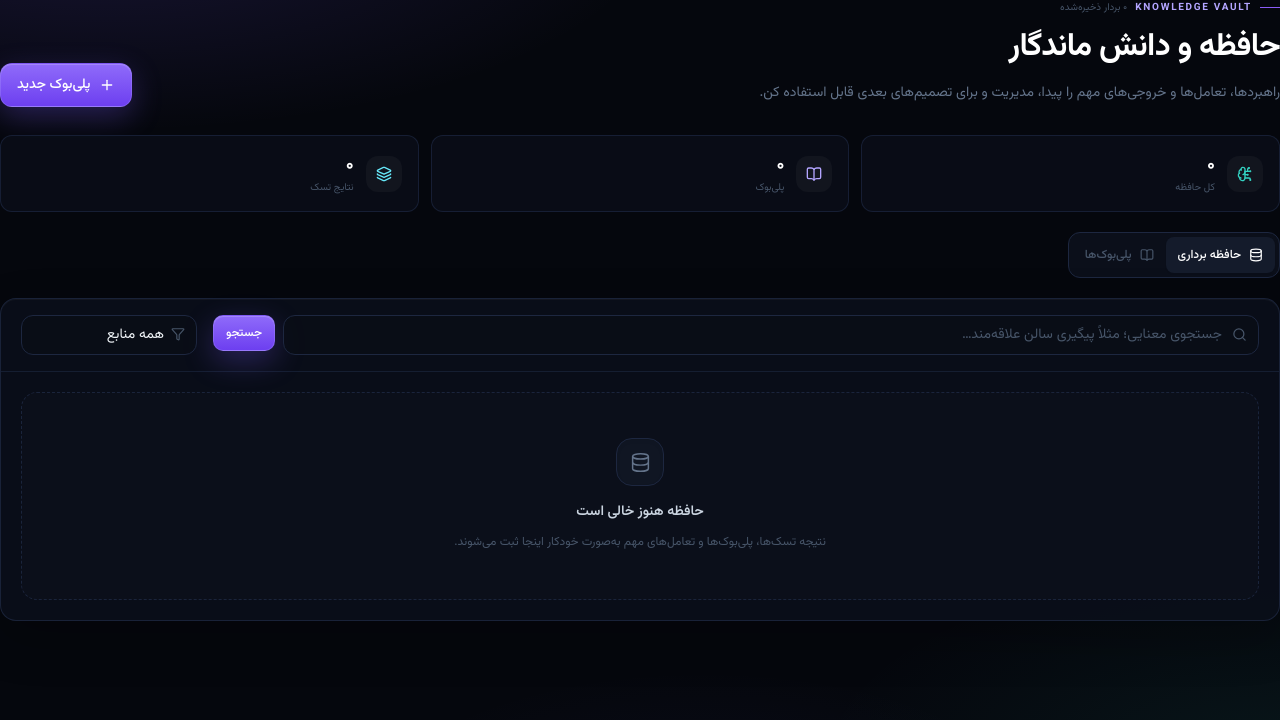
Scenario: memory panel independently handles no playbooks
What coordinates should you click on to do the following:
click the button "پلی‌بوک‌ها"
I would click on:
 (1119, 255)
Its box is [1073,237,1166,273].
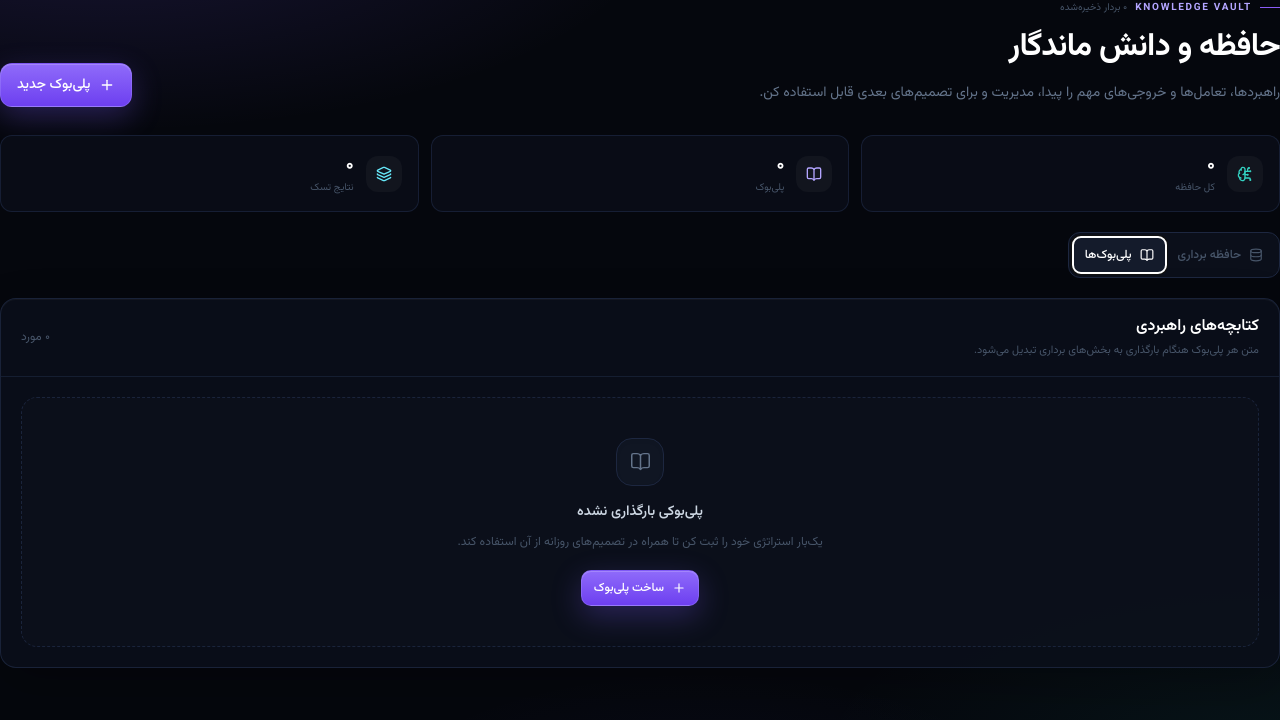
Expected: the text "پلی‌بوکی بارگذاری نشده" is shown, [577,502,703,522]
